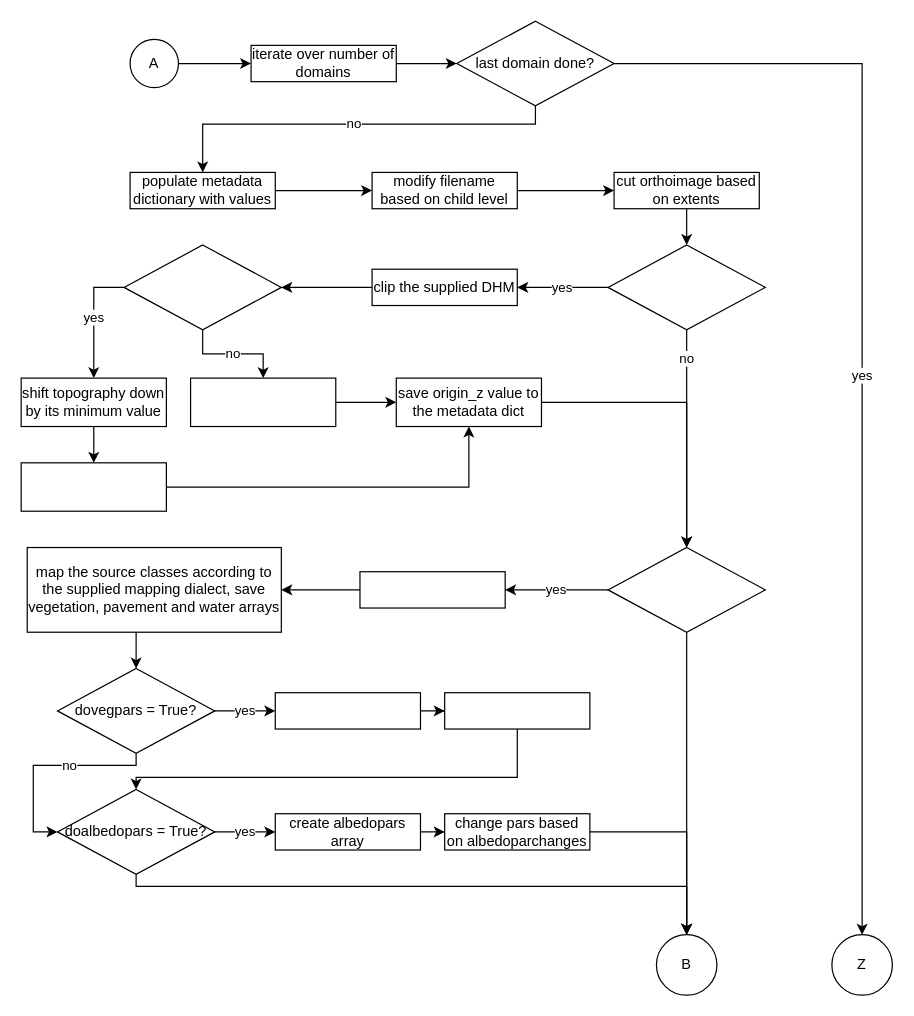
This 914x1016 diagram has some shape labels left out. Here are the shapes that lost their labels. From the top down, the centre of each, then its label:
point (202, 287): ischild = 0?
point (686, 287): doterrain = True?
point (262, 402): shift topo down by origin_z value
point (93, 486): save shift value as origin_z
point (432, 589): raster and clip the BB datset
point (686, 589): dotlmbb = True?
point (347, 710): create vegpars array
point (516, 710): change pars based on vegparchanges
